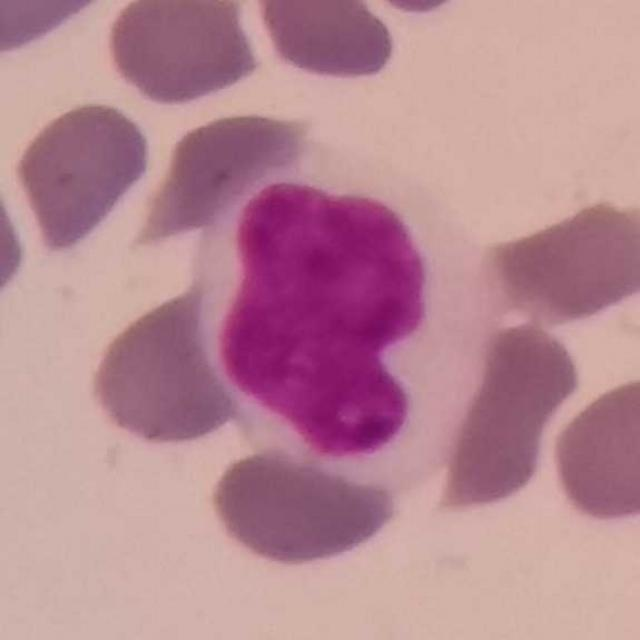Monocyte: (193, 148, 507, 502)
Platelets: (354, 0, 477, 19)
RBC: (430, 320, 583, 513), (203, 433, 404, 572), (82, 283, 244, 454), (9, 96, 156, 256), (478, 191, 640, 327), (154, 106, 315, 219), (100, 0, 266, 109), (545, 367, 640, 531), (248, 0, 401, 88), (0, 0, 120, 59), (0, 152, 32, 322), (342, 0, 479, 19)
